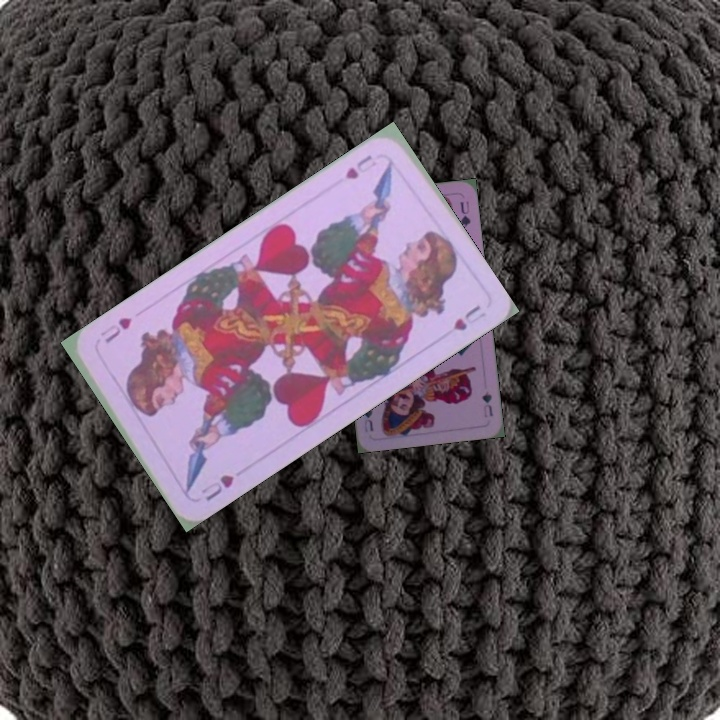GU: (478, 387, 495, 420)
HU: (196, 470, 237, 504), (340, 150, 379, 182)
